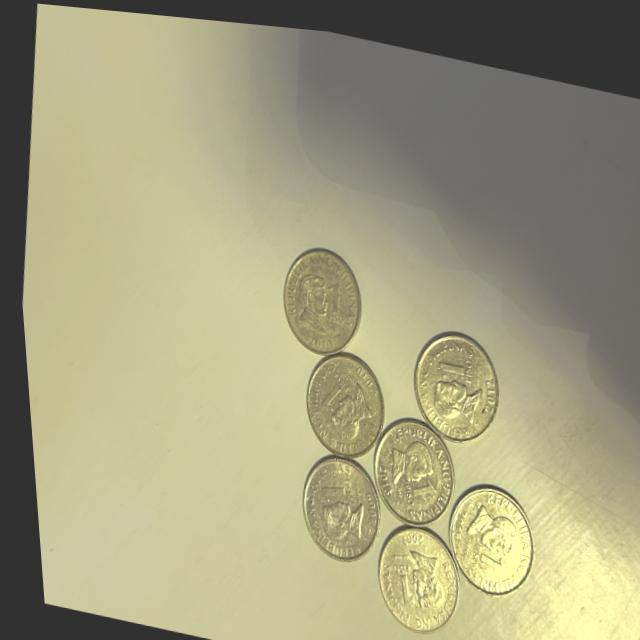1_Old_Front: (307, 350, 351, 419), (428, 329, 478, 377), (460, 529, 510, 577), (375, 544, 414, 597), (311, 264, 346, 322), (397, 461, 434, 504), (311, 461, 349, 502)
